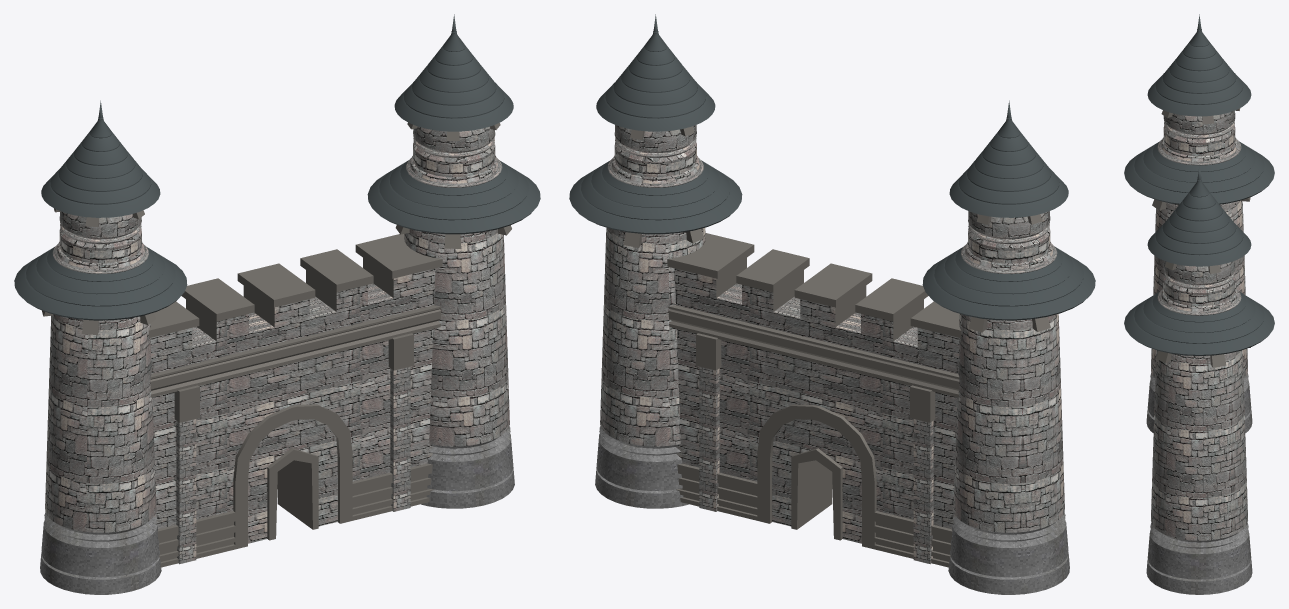
3 renders of one model, left to right at view 1: azimuth 30°, elevation 25°; view 2: azimuth 150°, elevation 25°; view 3: azimuth 270°, elevation 25°, orthographic. The views are drawn at different scales.
Visible parts, largest first — view 1: Tower, Wall, Roof, Design, Door, Angle; view 2: Tower, Wall, Roof, Design, Door, Angle; view 3: Tower, Roof, Angle.
Boxes of the visible parts, bbox=[...] form: Tower: bbox=[40, 126, 514, 594]; Wall: bbox=[148, 234, 442, 543]; Roof: bbox=[14, 14, 540, 320]; Design: bbox=[150, 305, 441, 567]; Door: bbox=[267, 448, 318, 540]; Angle: bbox=[42, 122, 511, 335]; Tower: bbox=[595, 125, 1069, 594]; Wall: bbox=[667, 233, 961, 543]; Roof: bbox=[569, 14, 1095, 320]; Design: bbox=[668, 305, 959, 567]; Door: bbox=[791, 448, 842, 540]; Angle: bbox=[597, 126, 1050, 332]; Tower: bbox=[1146, 110, 1252, 594]; Roof: bbox=[1124, 14, 1274, 355]; Angle: bbox=[1152, 108, 1250, 367].
Bounding box in the file's own units: 12.01 × 10.7 × 3.58.
4 materials, 4 textured.
